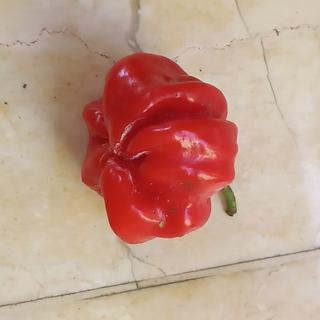Grade-B: (75, 44, 241, 250)
